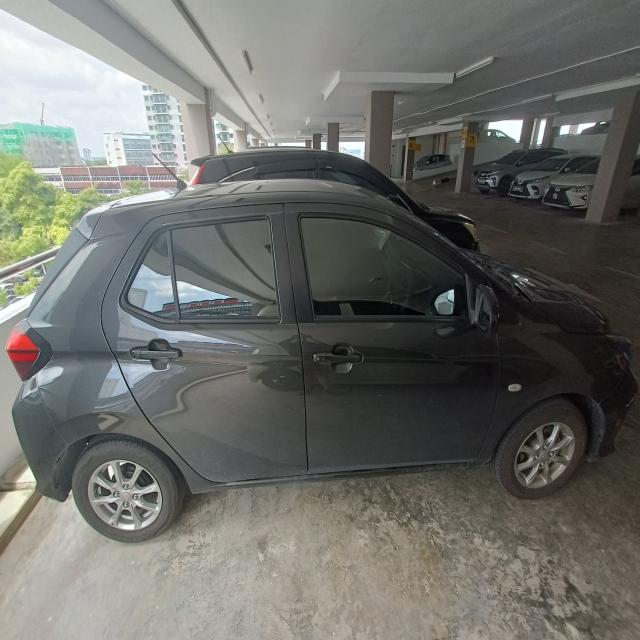PeroduaAxia: (6, 170, 637, 544)
